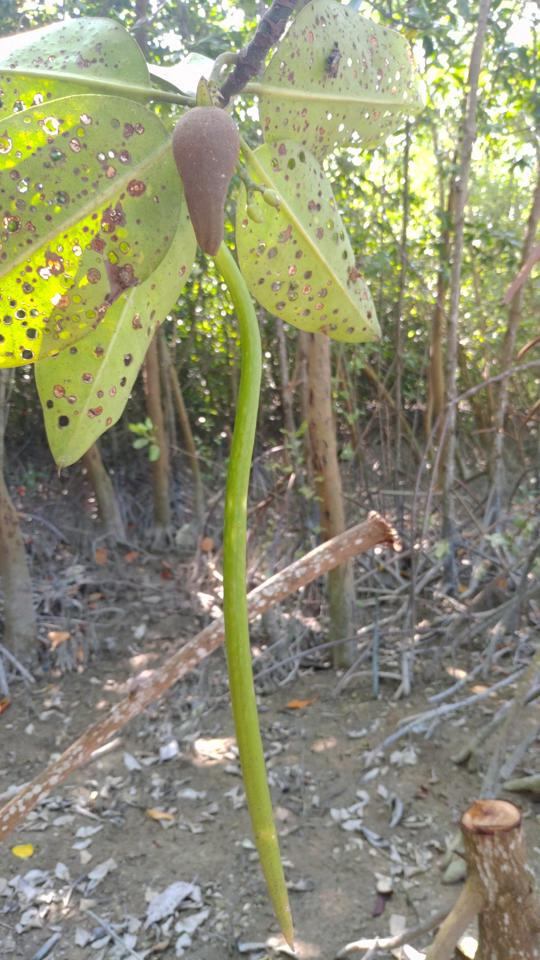mentah: (148, 59, 313, 956)
